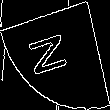N_E: (31, 29, 79, 81)
